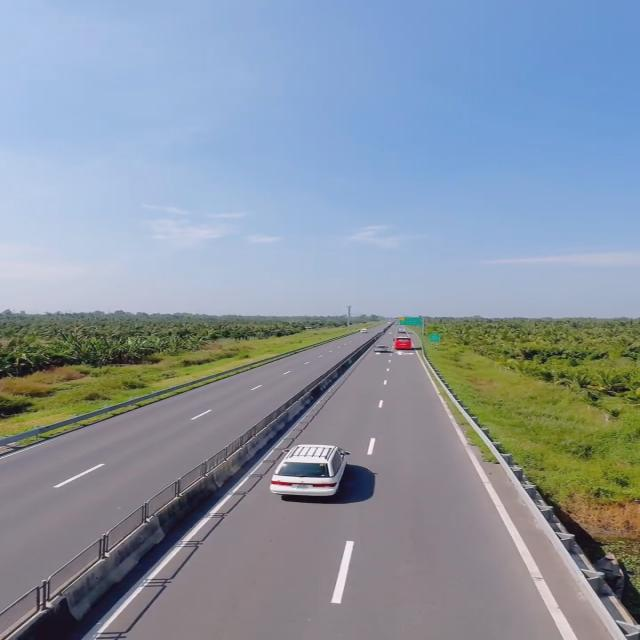car: (268, 445, 351, 505)
